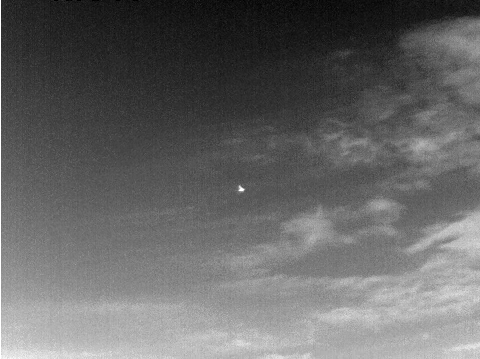dim target: (237, 184, 246, 193)
